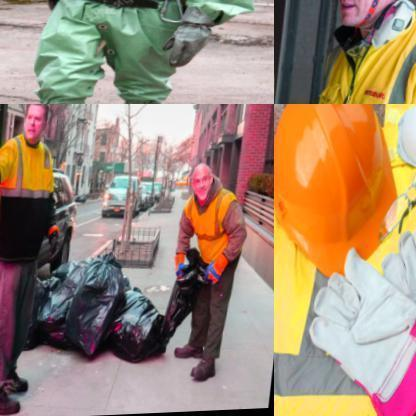vest: (274, 104, 415, 415), (36, 0, 264, 103), (0, 142, 61, 270), (179, 199, 251, 280)
